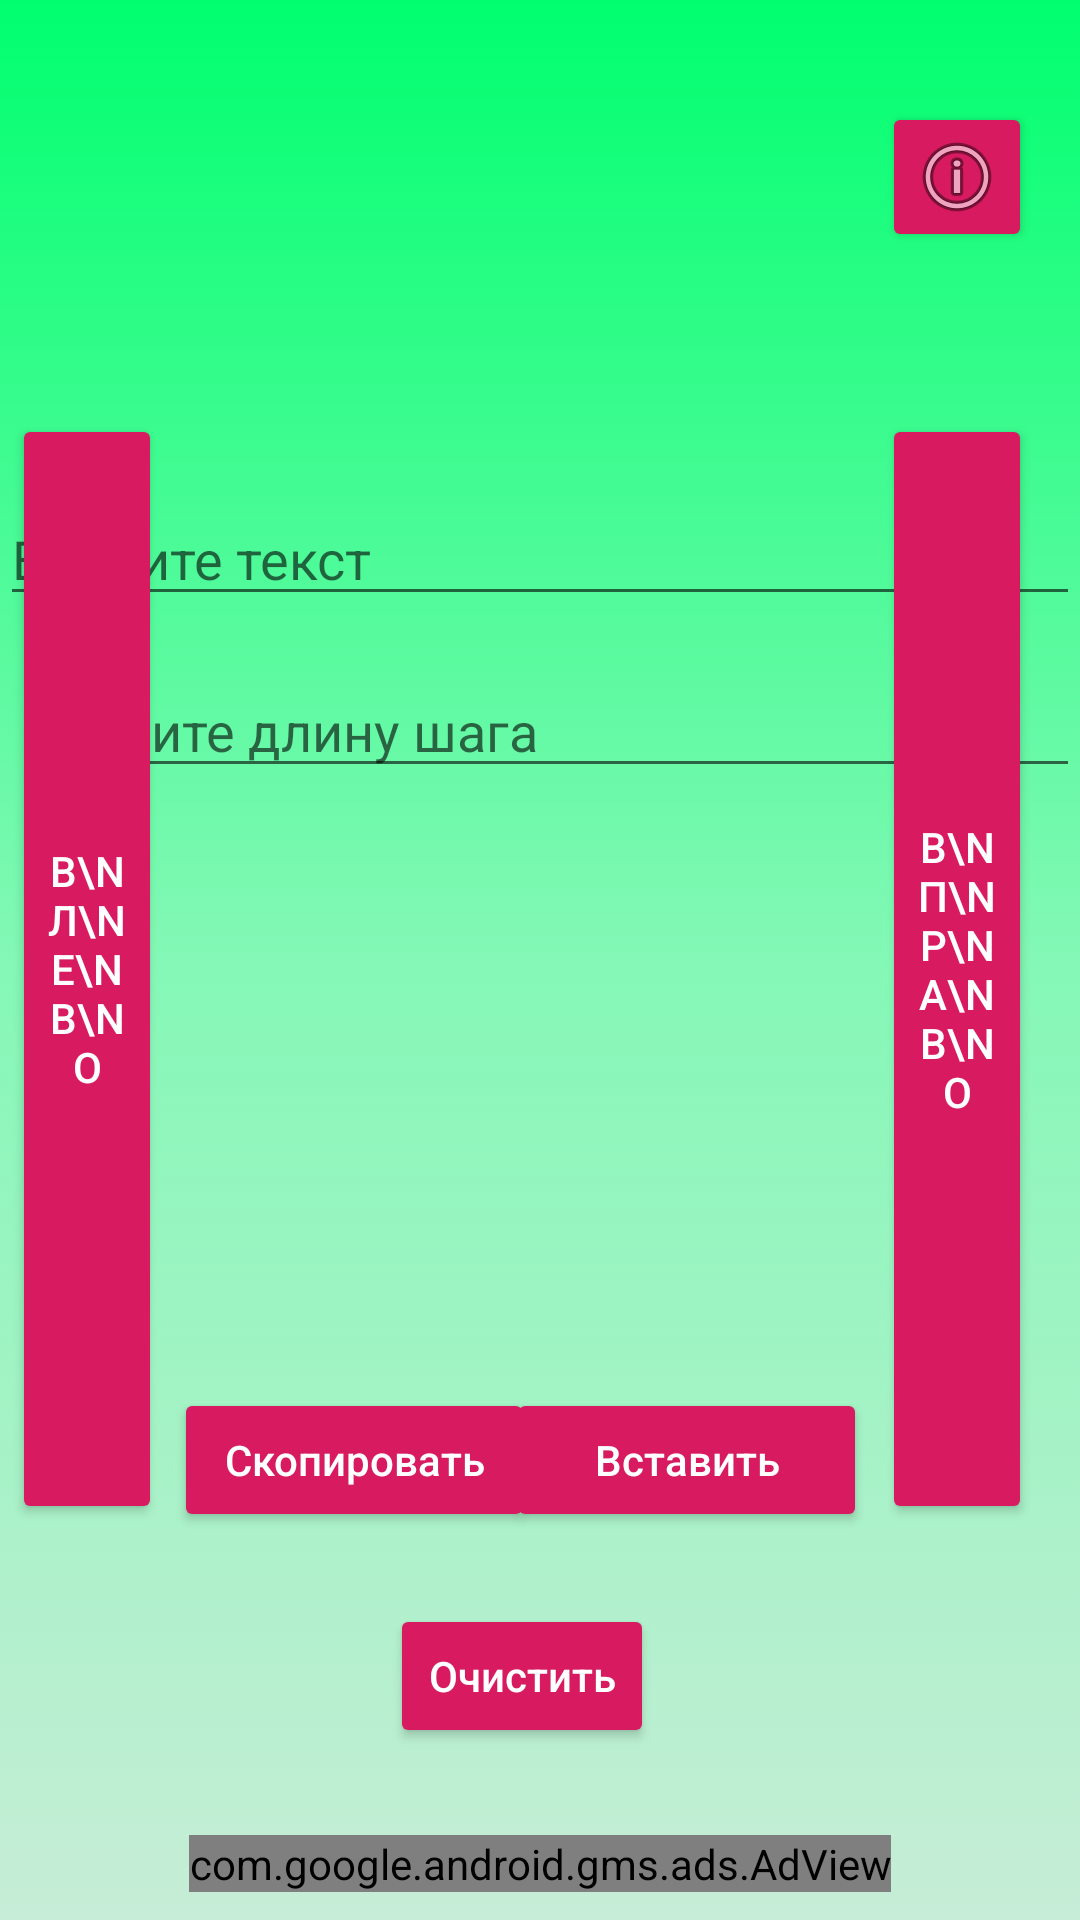

Screen size 1080px×1920px. Icon name, then its box in pixels as (x1, y1, x2, y2):
info details: (894, 120, 1021, 235)
